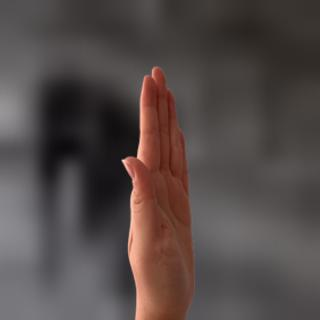Right: (117, 58, 206, 303)
